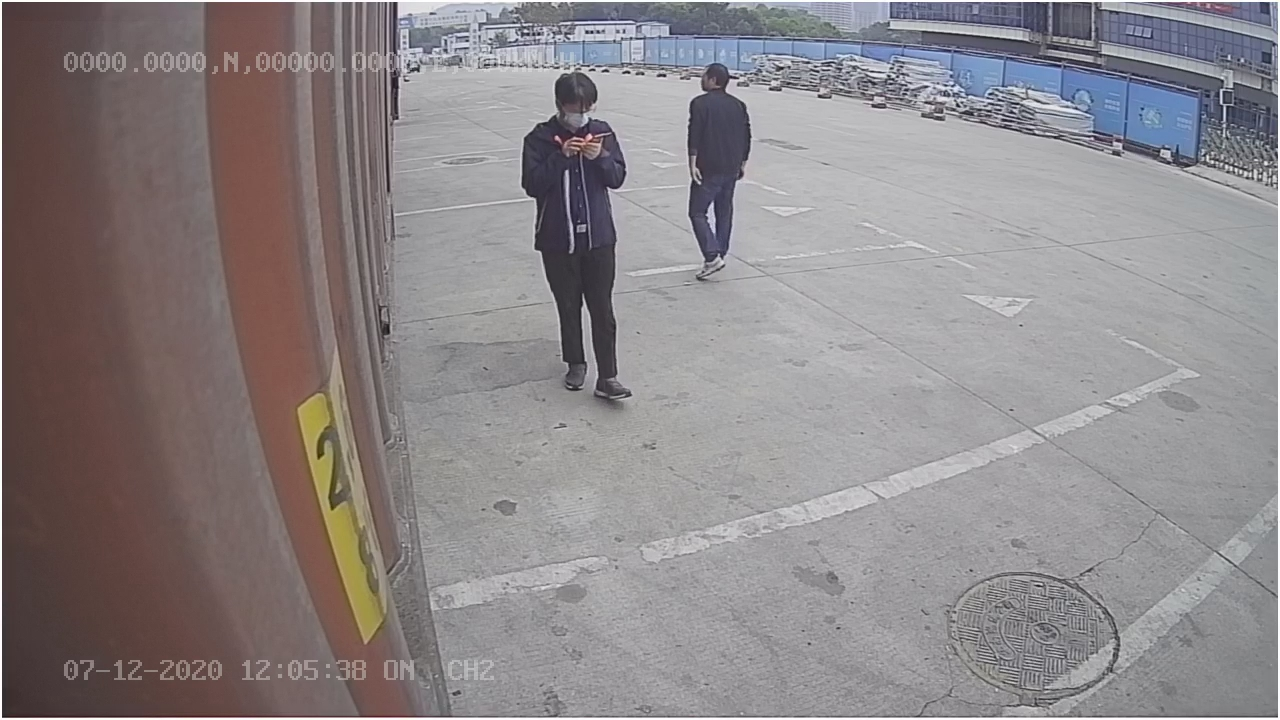person: (519, 69, 640, 406), (683, 62, 754, 287)
